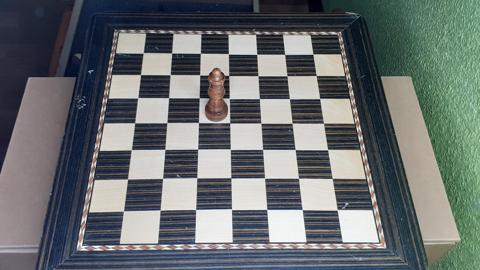xcorner: (138, 47, 147, 56), (135, 68, 144, 77), (132, 92, 141, 101), (129, 117, 138, 126), (125, 144, 134, 153), (122, 174, 131, 183), (117, 206, 126, 215), (167, 47, 176, 56), (165, 69, 174, 78), (163, 92, 172, 101), (161, 117, 170, 126), (159, 144, 168, 153), (157, 174, 166, 183), (154, 206, 163, 215), (196, 47, 205, 56), (195, 69, 204, 78), (194, 92, 203, 101), (193, 117, 202, 126), (193, 144, 202, 153), (192, 174, 201, 183), (191, 206, 200, 215), (225, 47, 234, 56), (225, 69, 234, 78), (225, 92, 234, 101), (226, 117, 235, 126), (226, 145, 235, 154), (226, 174, 235, 183), (227, 206, 236, 215), (253, 48, 262, 57), (255, 69, 264, 78), (256, 93, 265, 102), (258, 118, 267, 127), (259, 145, 268, 154), (261, 174, 270, 183), (263, 206, 272, 215), (282, 48, 291, 57), (284, 70, 293, 79), (287, 93, 296, 102), (290, 118, 299, 127), (293, 145, 302, 154), (296, 174, 305, 183), (299, 206, 308, 215), (310, 48, 319, 57), (314, 70, 323, 79), (317, 93, 326, 102), (321, 118, 330, 127), (326, 145, 335, 154), (330, 174, 339, 183), (335, 206, 344, 215)
